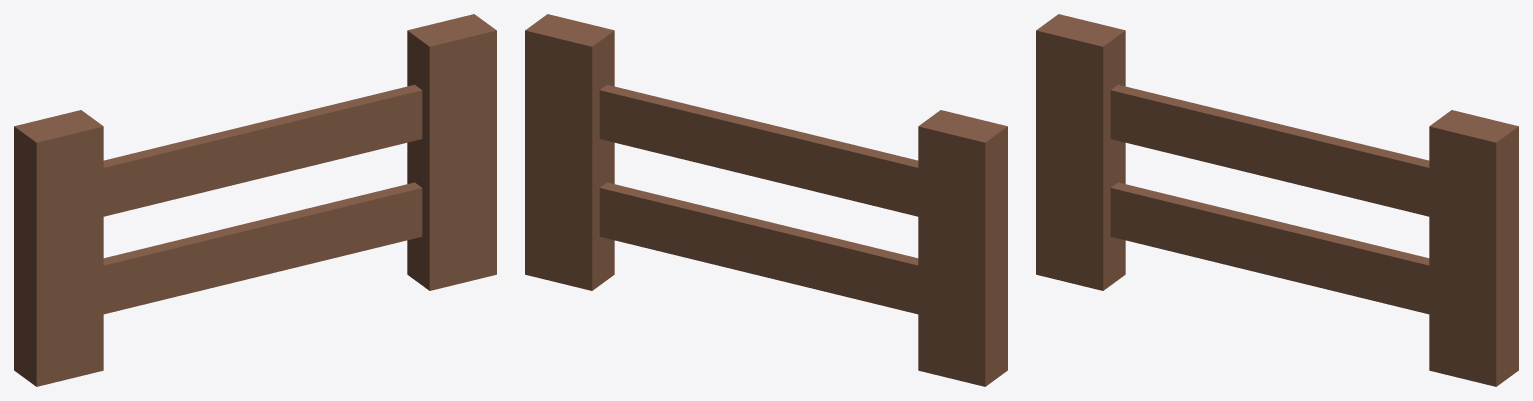
File: Fence2.fbx
The picture shows the model from 3 angles, left to right: view 1: azimuth 30°, elevation 25°; view 2: azimuth 150°, elevation 25°; view 3: azimuth 330°, elevation 25°; orthographic projection.
Visible parts, largest first — view 1: Cube.001; view 2: Cube.001; view 3: Cube.001.
Part boxes in pixels (x1=…): Cube.001: x1=14, y1=14, x2=496, y2=386; Cube.001: x1=525, y1=14, x2=1007, y2=386; Cube.001: x1=1036, y1=14, x2=1518, y2=386.
Size of the model in its own units: 193 by 97.65 by 16.32.
